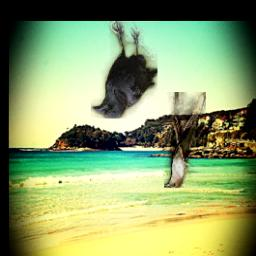Crow: (92, 22, 158, 119)
Cuckoo: (165, 93, 207, 189)
